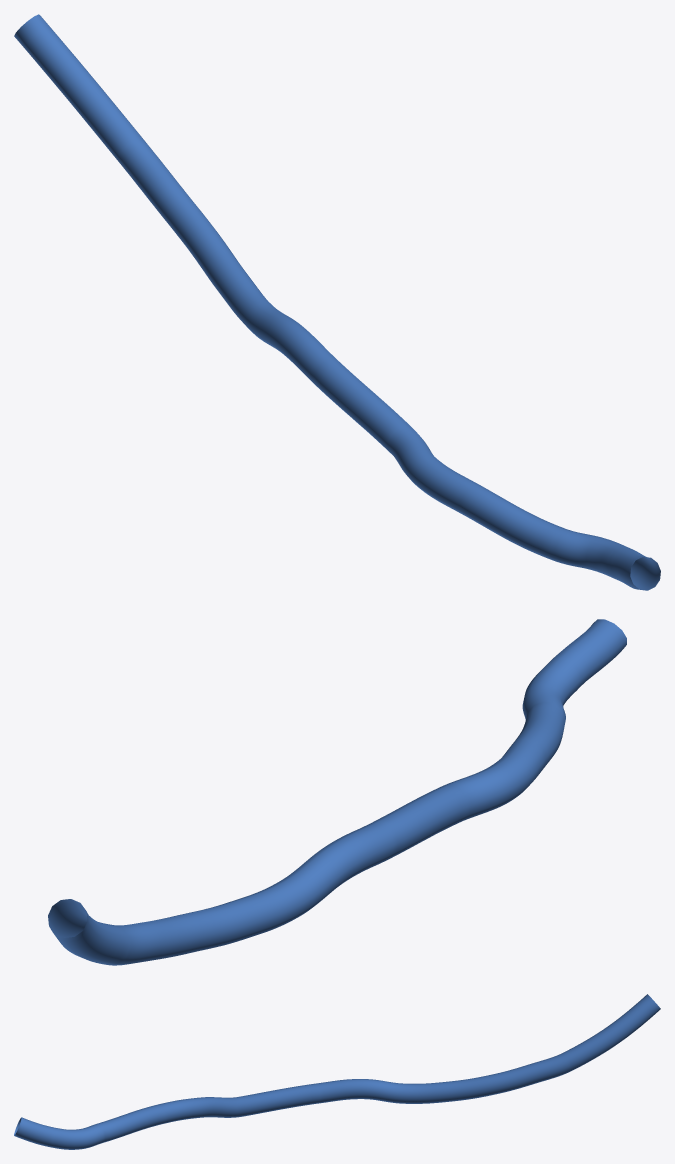
3 renders of one model, top to bottom at view 1: azimuth 30°, elevation 25°; view 2: azimuth 150°, elevation 25°; view 3: azimuth 270°, elevation 25°, orthographic. The views are drawn at different scales.
Parts seen in each view (by area): view 1: 右侧股静脉; view 2: 右侧股静脉; view 3: 右侧股静脉.
Part boxes in pixels (x1=…): 右侧股静脉: x1=14, y1=14, x2=660, y2=590; 右侧股静脉: x1=48, y1=619, x2=626, y2=965; 右侧股静脉: x1=14, y1=994, x2=660, y2=1149.
Bounding box in the file's own units: 0.0582 × 0.1049 × 0.4718.
